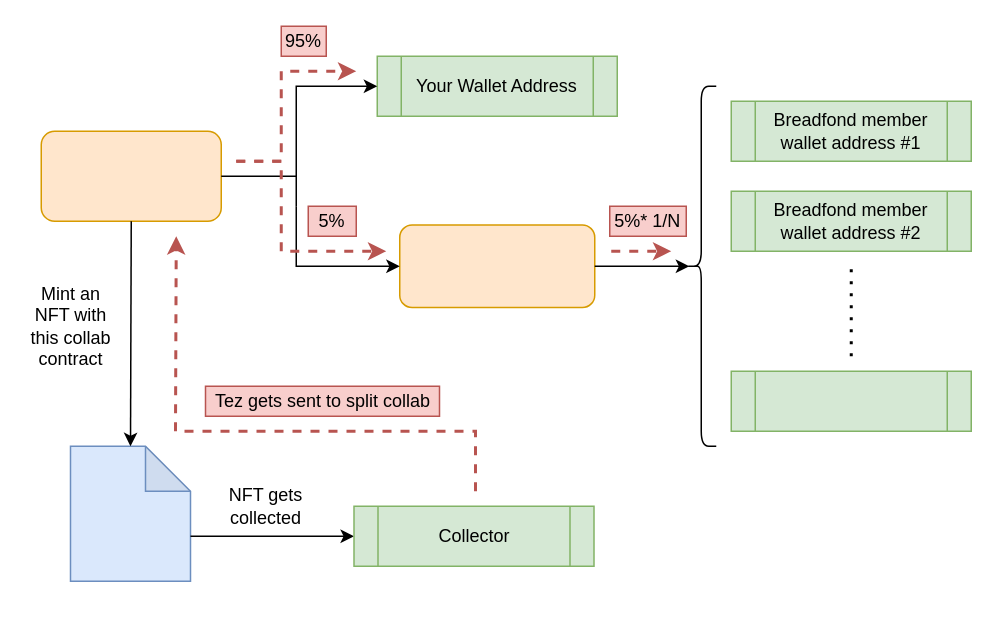
The diagram is 998 pixels wide and 620 high, and some of its shapes have lost their labels. Here are the shapes that lost their labels. From the top down, the box of each, then its label:
(40, 130, 221, 221): Top Level Collab Contract
(398, 224, 595, 308): Breadfond Collab
(730, 370, 971, 431): Breadfond member wallet address #N
(69, 445, 190, 581): NFT
